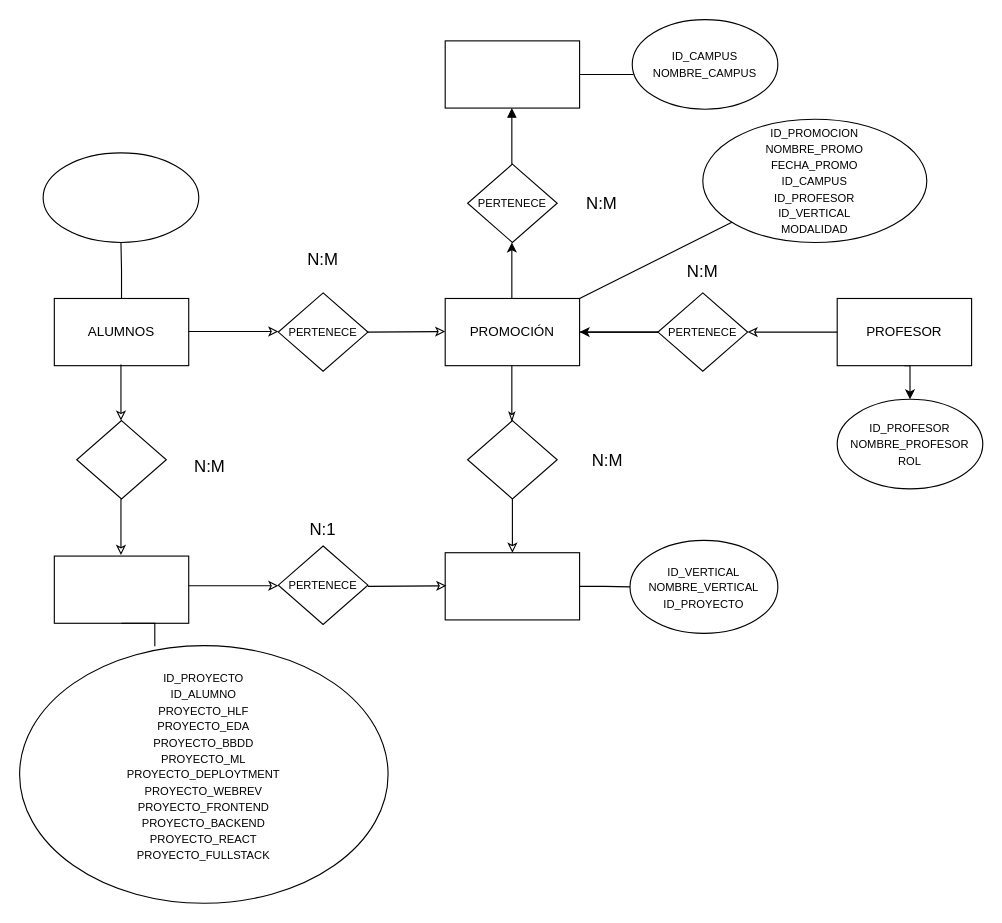
The diagram is 1002 pixels wide and 923 high, and some of its shapes have lost their labels. The centre of each missing label's shape, as x and y in pixels:
"CAMPUS" belongs at point (512, 74).
"ID_ALUMNO NOMBRE_ALUMNO EMAIL:ALUMNO ID_PROMOCION" belongs at point (120, 197).
"PROYECTOS" belongs at point (121, 589).
"REALIZA" belongs at point (121, 459).
"TIENE" belongs at point (511, 459).
"VERTICAL" belongs at point (512, 586).
